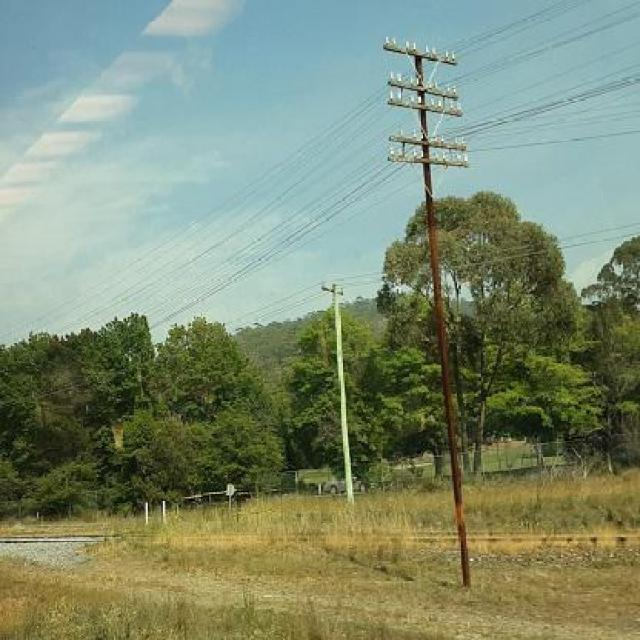pole: (378, 39, 482, 578)
